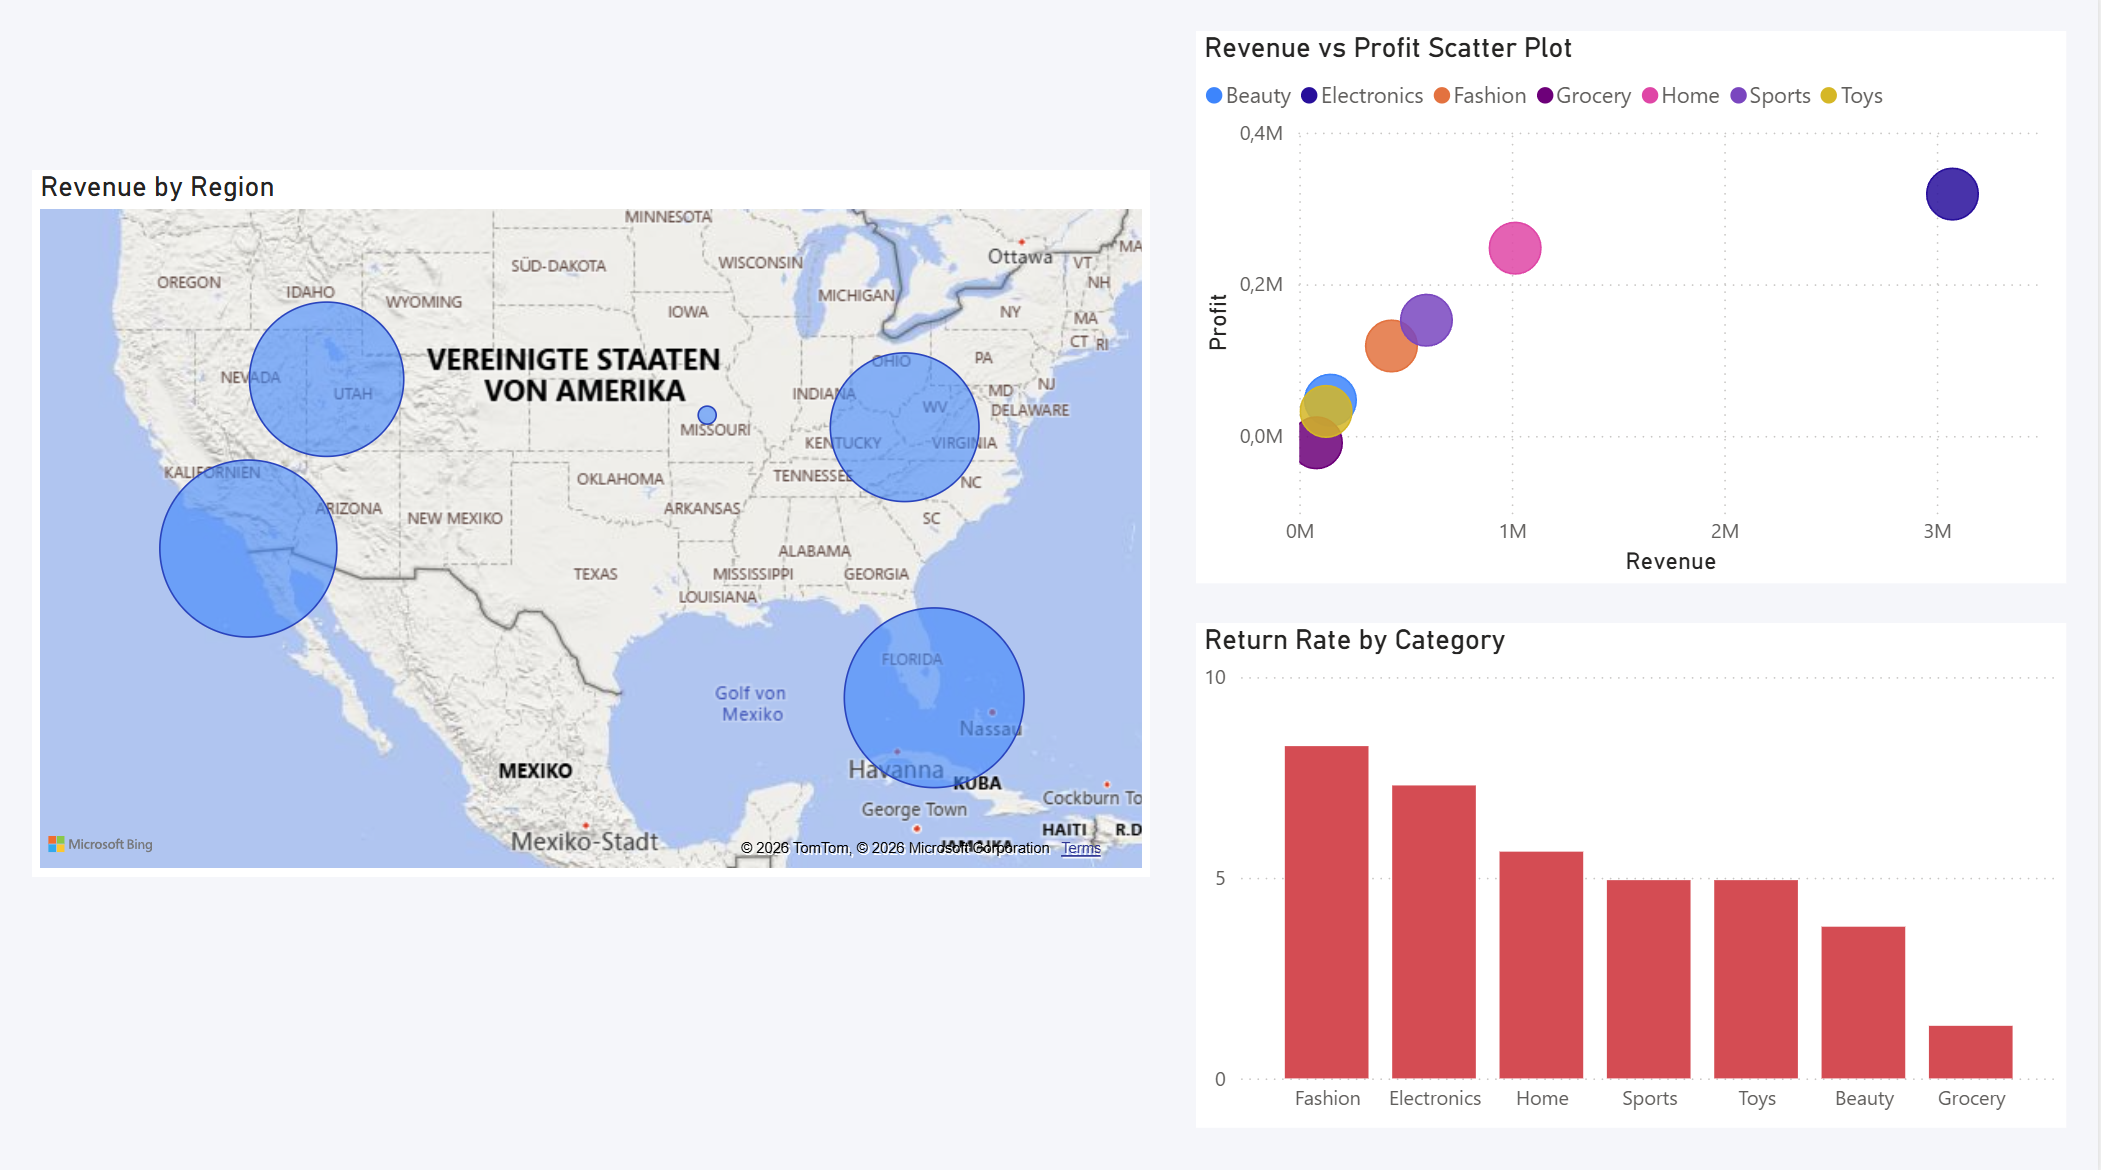

The page's visual inventory and layout, read from the dashboard file:
{"tool":"powerbi","page":{"name":"Category & Regional Performance","canvas":[1280,720],"ordinal":2},"visuals":[{"type":"scatterChart","title":"Revenue vs Profit Scatter Plot","fields":{"X":["Sum(profit_by_category.total_revenue)"],"Y":["Sum(profit_by_category.total_profit)"],"Series":["profit_by_category.category"]},"box":[729.5,22.7,530.8,336.7],"z":0},{"type":"clusteredColumnChart","title":"Return Rate by Category","fields":{"Category":["return_rate_by_category.category"],"Y":["Sum(return_rate_by_category.return_rate_pct)"]},"box":[729.5,383.7,530.8,307.9],"z":1000},{"type":"map","title":"Revenue by Region","fields":{"Size":["Sum(revenue_by_region.total_revenue)"],"Category":["revenue_by_region.Region_US"]},"box":[19.7,107.7,682.5,430.7],"z":2001}]}

Visuals, with their boxes in screenshot pixels (x1, y1, x2, y2), scaled from the page's 1280x720 canvas onto the 2101x1170 screenshot:
"Revenue vs Profit Scatter Plot" scatterChart: bbox=[1197, 37, 2069, 584]
"Return Rate by Category" clusteredColumnChart: bbox=[1197, 624, 2069, 1124]
"Revenue by Region" map: bbox=[32, 175, 1153, 875]
